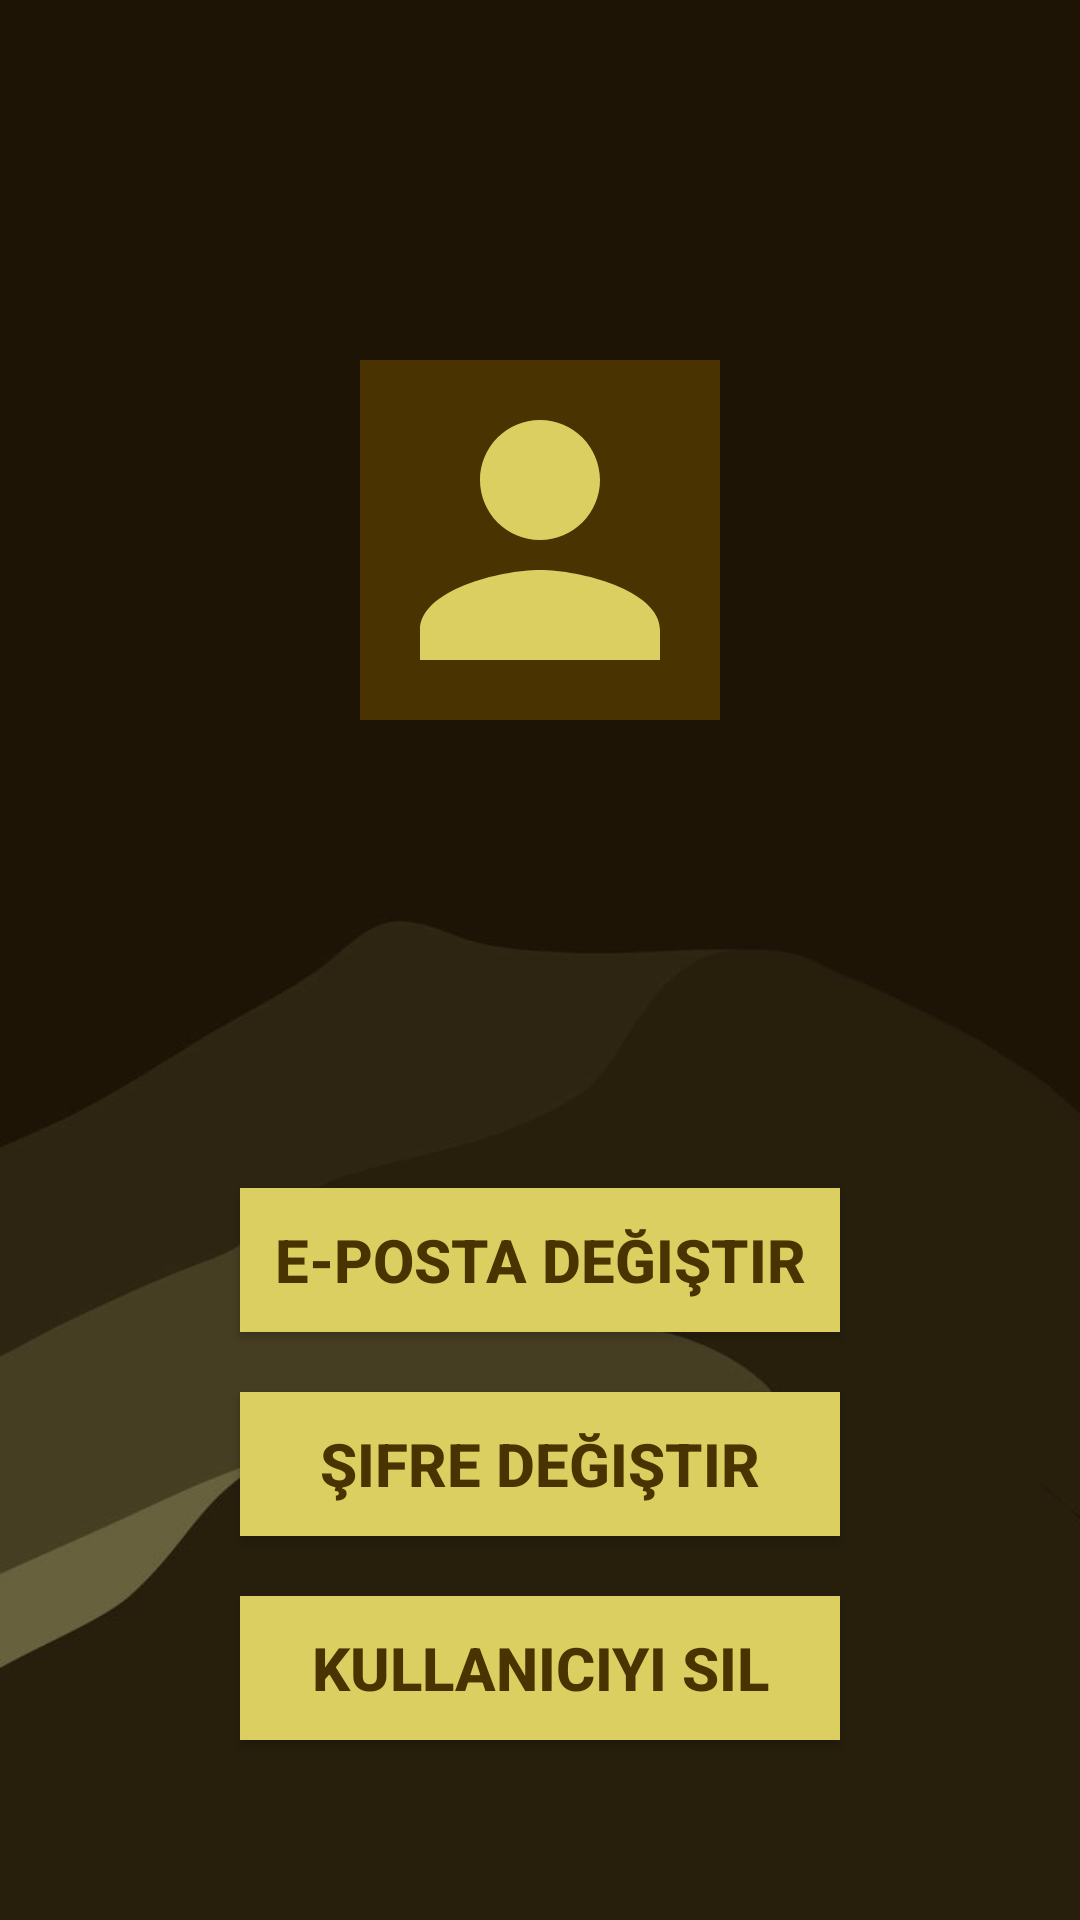

Icon bounding boxes for this 1080x1920 phone screenshot, format [x1, y1, x2, y2]:
person: [360, 360, 720, 720]
